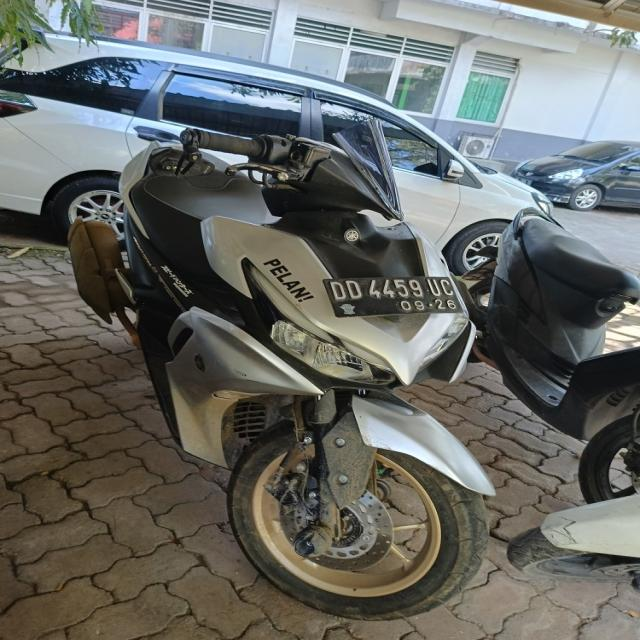plates: (318, 275, 463, 320)
